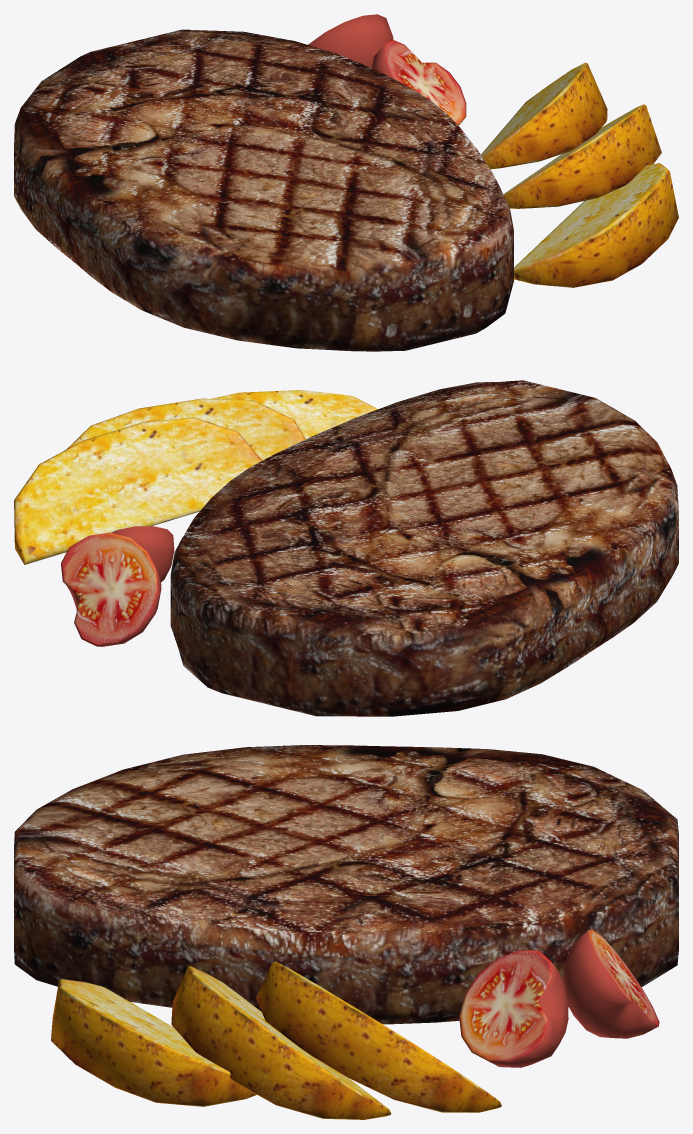
File: Steak.fbx
The picture shows the model from 3 angles, top to bottom: view 1: azimuth 30°, elevation 25°; view 2: azimuth 150°, elevation 25°; view 3: azimuth 270°, elevation 25°; orthographic projection. The views are drawn at different scales.
Parts seen in each view (by area): view 1: Steak; view 2: Steak; view 3: Steak.
Boxes of the visible parts, x1,y1,x2,y2 form: Steak: [14, 14, 678, 351]; Steak: [14, 380, 678, 716]; Steak: [14, 745, 678, 1119].
Size of the model in its own units: 17.81 by 2.98 by 16.64.
Materials: 1 (1 with a texture image).
